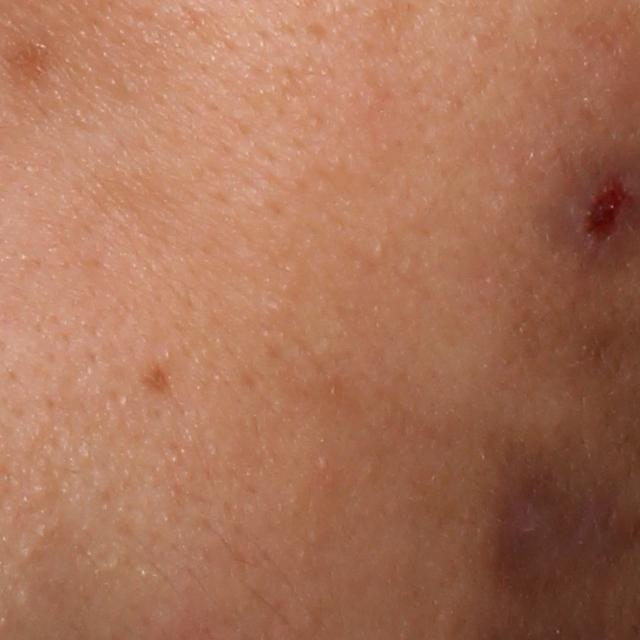melasma: (6, 34, 59, 93)
other: (575, 180, 629, 244)
